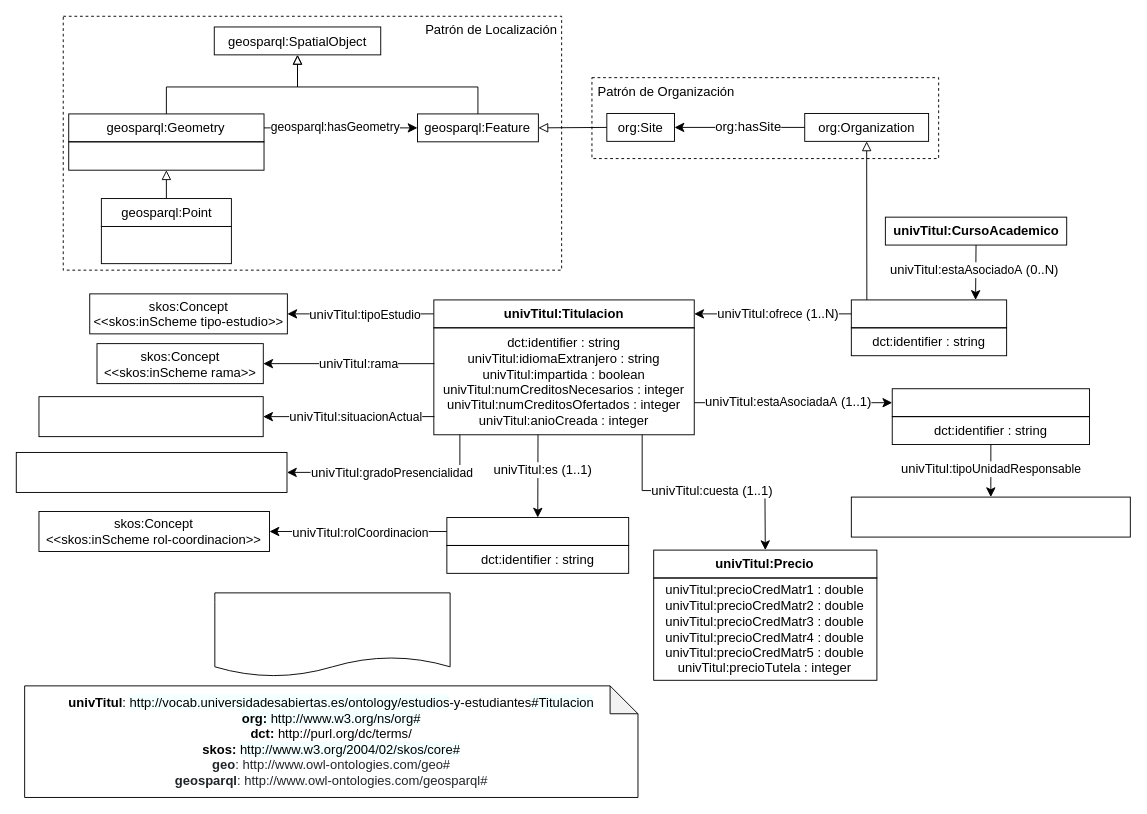
This 1147x814 diagram has some shape labels left out. Here are the shapes that lost their labels. From the top down, the box of each, then its label:
(68, 141, 264, 170): geosparql:asWKT : WKTLiteral
(100, 226, 231, 264): geo:lat : double geo:long : double
(850, 299, 1007, 328): univTitul :Universidad
(38, 396, 263, 437): skos:Concept <<skos:inScheme situacion-actual>>
(891, 388, 1089, 417): univTitul:UnidadResponsable
(15, 452, 287, 492): skos:Concept <<skos:inScheme grado-presencialidad>>
(446, 517, 629, 545): univTitul :Interuniversitario
(850, 496, 1130, 537): skos:Concept <<skos:inScheme tipo-unidad-responsable>>
(214, 592, 450, 677): dc:creator: Víctor Morcuende owl:versionInfo: 0.0.2 dc:title: Template Ontology
